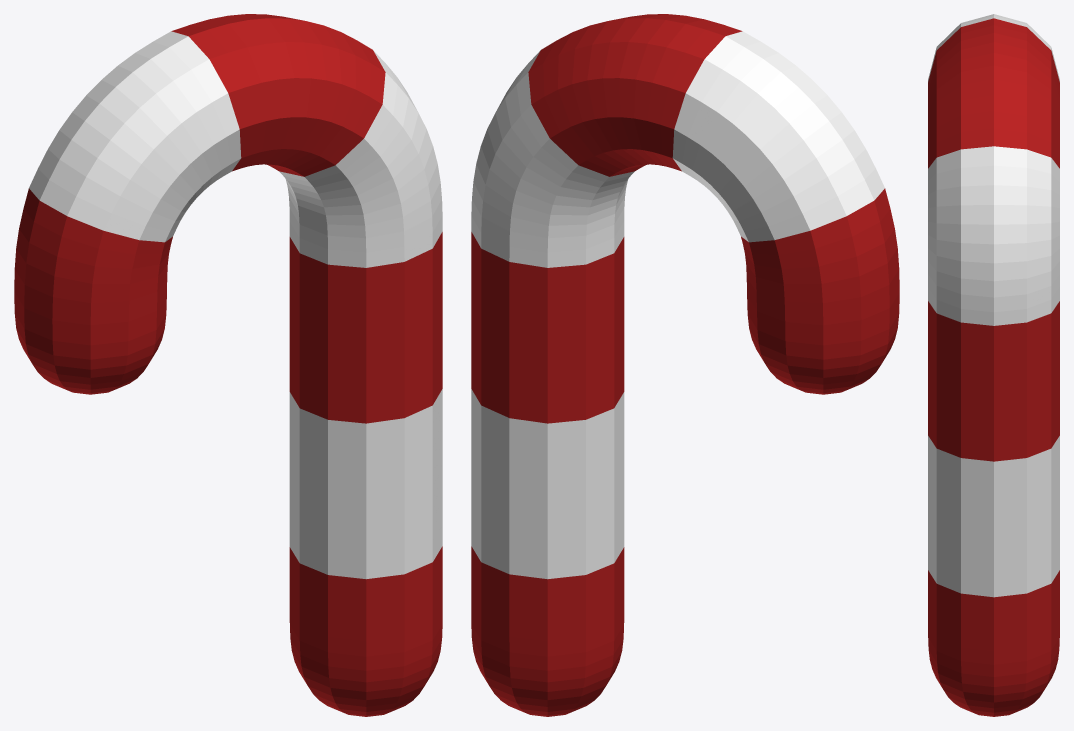
File: stick.glb
The picture shows the model from 3 angles, left to right: view 1: azimuth 30°, elevation 25°; view 2: azimuth 150°, elevation 25°; view 3: azimuth 270°, elevation 25°; orthographic projection. The views are drawn at different scales.
Parts seen in each view (by area): view 1: Circle.030; view 2: Circle.030; view 3: Circle.030.
Boxes of the visible parts, x1,y1,x2,y2 form: Circle.030: (14,14,442,716); Circle.030: (471,14,899,716); Circle.030: (928,14,1059,716).
Bounding box in the file's own units: 10.05 × 16.93 × 3.26.
